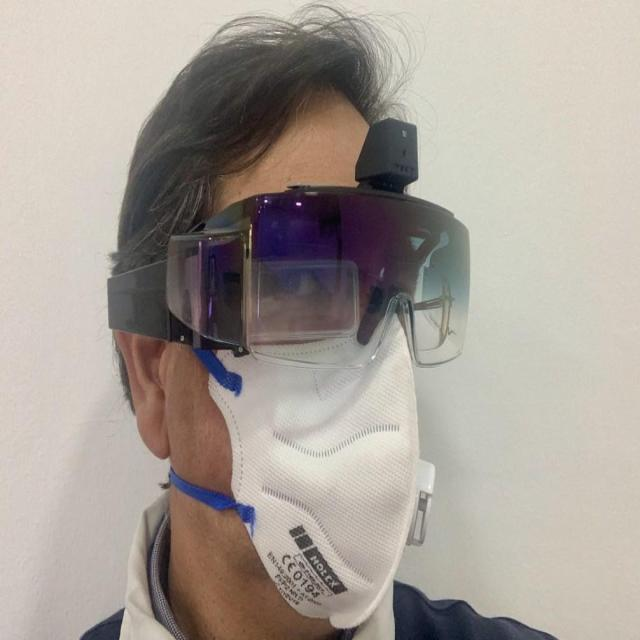Goggles: (184, 186, 477, 368)
Mask: (220, 323, 434, 627)
